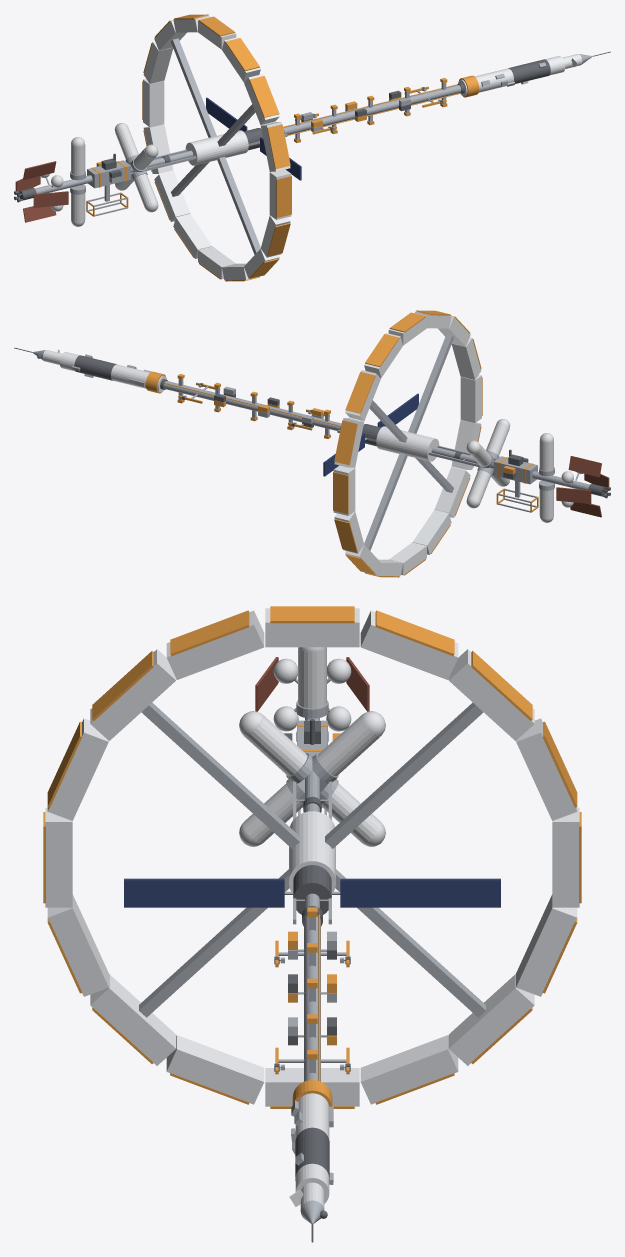
File: akane.glb
3 renders of one model, top to bottom at view 1: azimuth 30°, elevation 25°; view 2: azimuth 150°, elevation 25°; view 3: azimuth 270°, elevation 25°, orthographic. The views are drawn at different scales.
Parts seen in each view (by area): view 1: akane_spine, akane_ring_hub, akane_ring_seg_00, akane_ring_spoke_0, akane_ring_seg_14, akane_ring_spoke_2, akane_ring_seg_13, akane_hub, akane_ring_seg_01, akane_ring_band_07, akane_ring_seg_15, akane_ring_band_06 (+27 smaller); view 2: akane_spine, akane_ring_hub, akane_ring_seg_08, akane_ring_spoke_1, akane_ring_seg_10, akane_ring_spoke_3, akane_hub, akane_ring_seg_11, akane_ring_seg_07, akane_ring_band_01, akane_ring_seg_09, akane_ring_band_02 (+26 smaller); view 3: akane_solar_0, akane_solar_1, akane_ring_seg_11, akane_ring_seg_13, akane_ring_seg_10, akane_ring_seg_14, akane_ring_spoke_0, akane_ring_spoke_1, akane_ring_seg_09, akane_ring_seg_15, akane_ring_seg_02, akane_ring_seg_06 (+25 smaller).
Boxes of the visible parts, box(x1,y1,x2,y2) form: akane_spine: box(283, 85, 461, 134); akane_ring_hub: box(185, 130, 248, 165); akane_ring_seg_00: box(143, 79, 164, 126); akane_ring_spoke_0: box(171, 38, 216, 137); akane_ring_seg_14: box(154, 171, 190, 221); akane_ring_spoke_2: box(217, 156, 260, 254); akane_ring_seg_13: box(173, 213, 211, 258); akane_hub: box(458, 56, 565, 96); akane_ring_seg_01: box(143, 41, 173, 83); akane_ring_band_07: box(267, 124, 290, 169); akane_ring_seg_15: box(143, 124, 173, 173); akane_ring_band_06: box(249, 76, 279, 117); akane_spine: box(163, 381, 341, 430); akane_ring_hub: box(376, 426, 439, 461); akane_ring_seg_08: box(460, 375, 481, 422); akane_ring_spoke_1: box(408, 334, 453, 433); akane_ring_seg_10: box(434, 467, 470, 517); akane_ring_spoke_3: box(364, 452, 407, 550); akane_hub: box(59, 352, 166, 392); akane_ring_seg_11: box(413, 509, 451, 554); akane_ring_seg_07: box(451, 337, 481, 379); akane_ring_band_01: box(334, 420, 357, 465); akane_ring_seg_09: box(451, 420, 481, 469); akane_ring_band_02: box(345, 372, 375, 413); akane_solar_0: box(340, 878, 500, 907); akane_solar_1: box(124, 878, 284, 907); akane_ring_seg_11: box(166, 1035, 264, 1104); akane_ring_seg_13: box(360, 1035, 458, 1104); akane_ring_seg_10: box(90, 974, 176, 1065); akane_ring_seg_14: box(448, 974, 534, 1065); akane_ring_spoke_0: box(325, 702, 483, 848); akane_ring_spoke_1: box(141, 702, 299, 848); akane_ring_seg_09: box(47, 894, 108, 996); akane_ring_seg_15: box(516, 894, 577, 996); akane_ring_seg_02: box(448, 649, 534, 740); akane_ring_seg_06: box(90, 649, 176, 740).
Bounding box in the file's own units: 1624 × 637 × 637.
